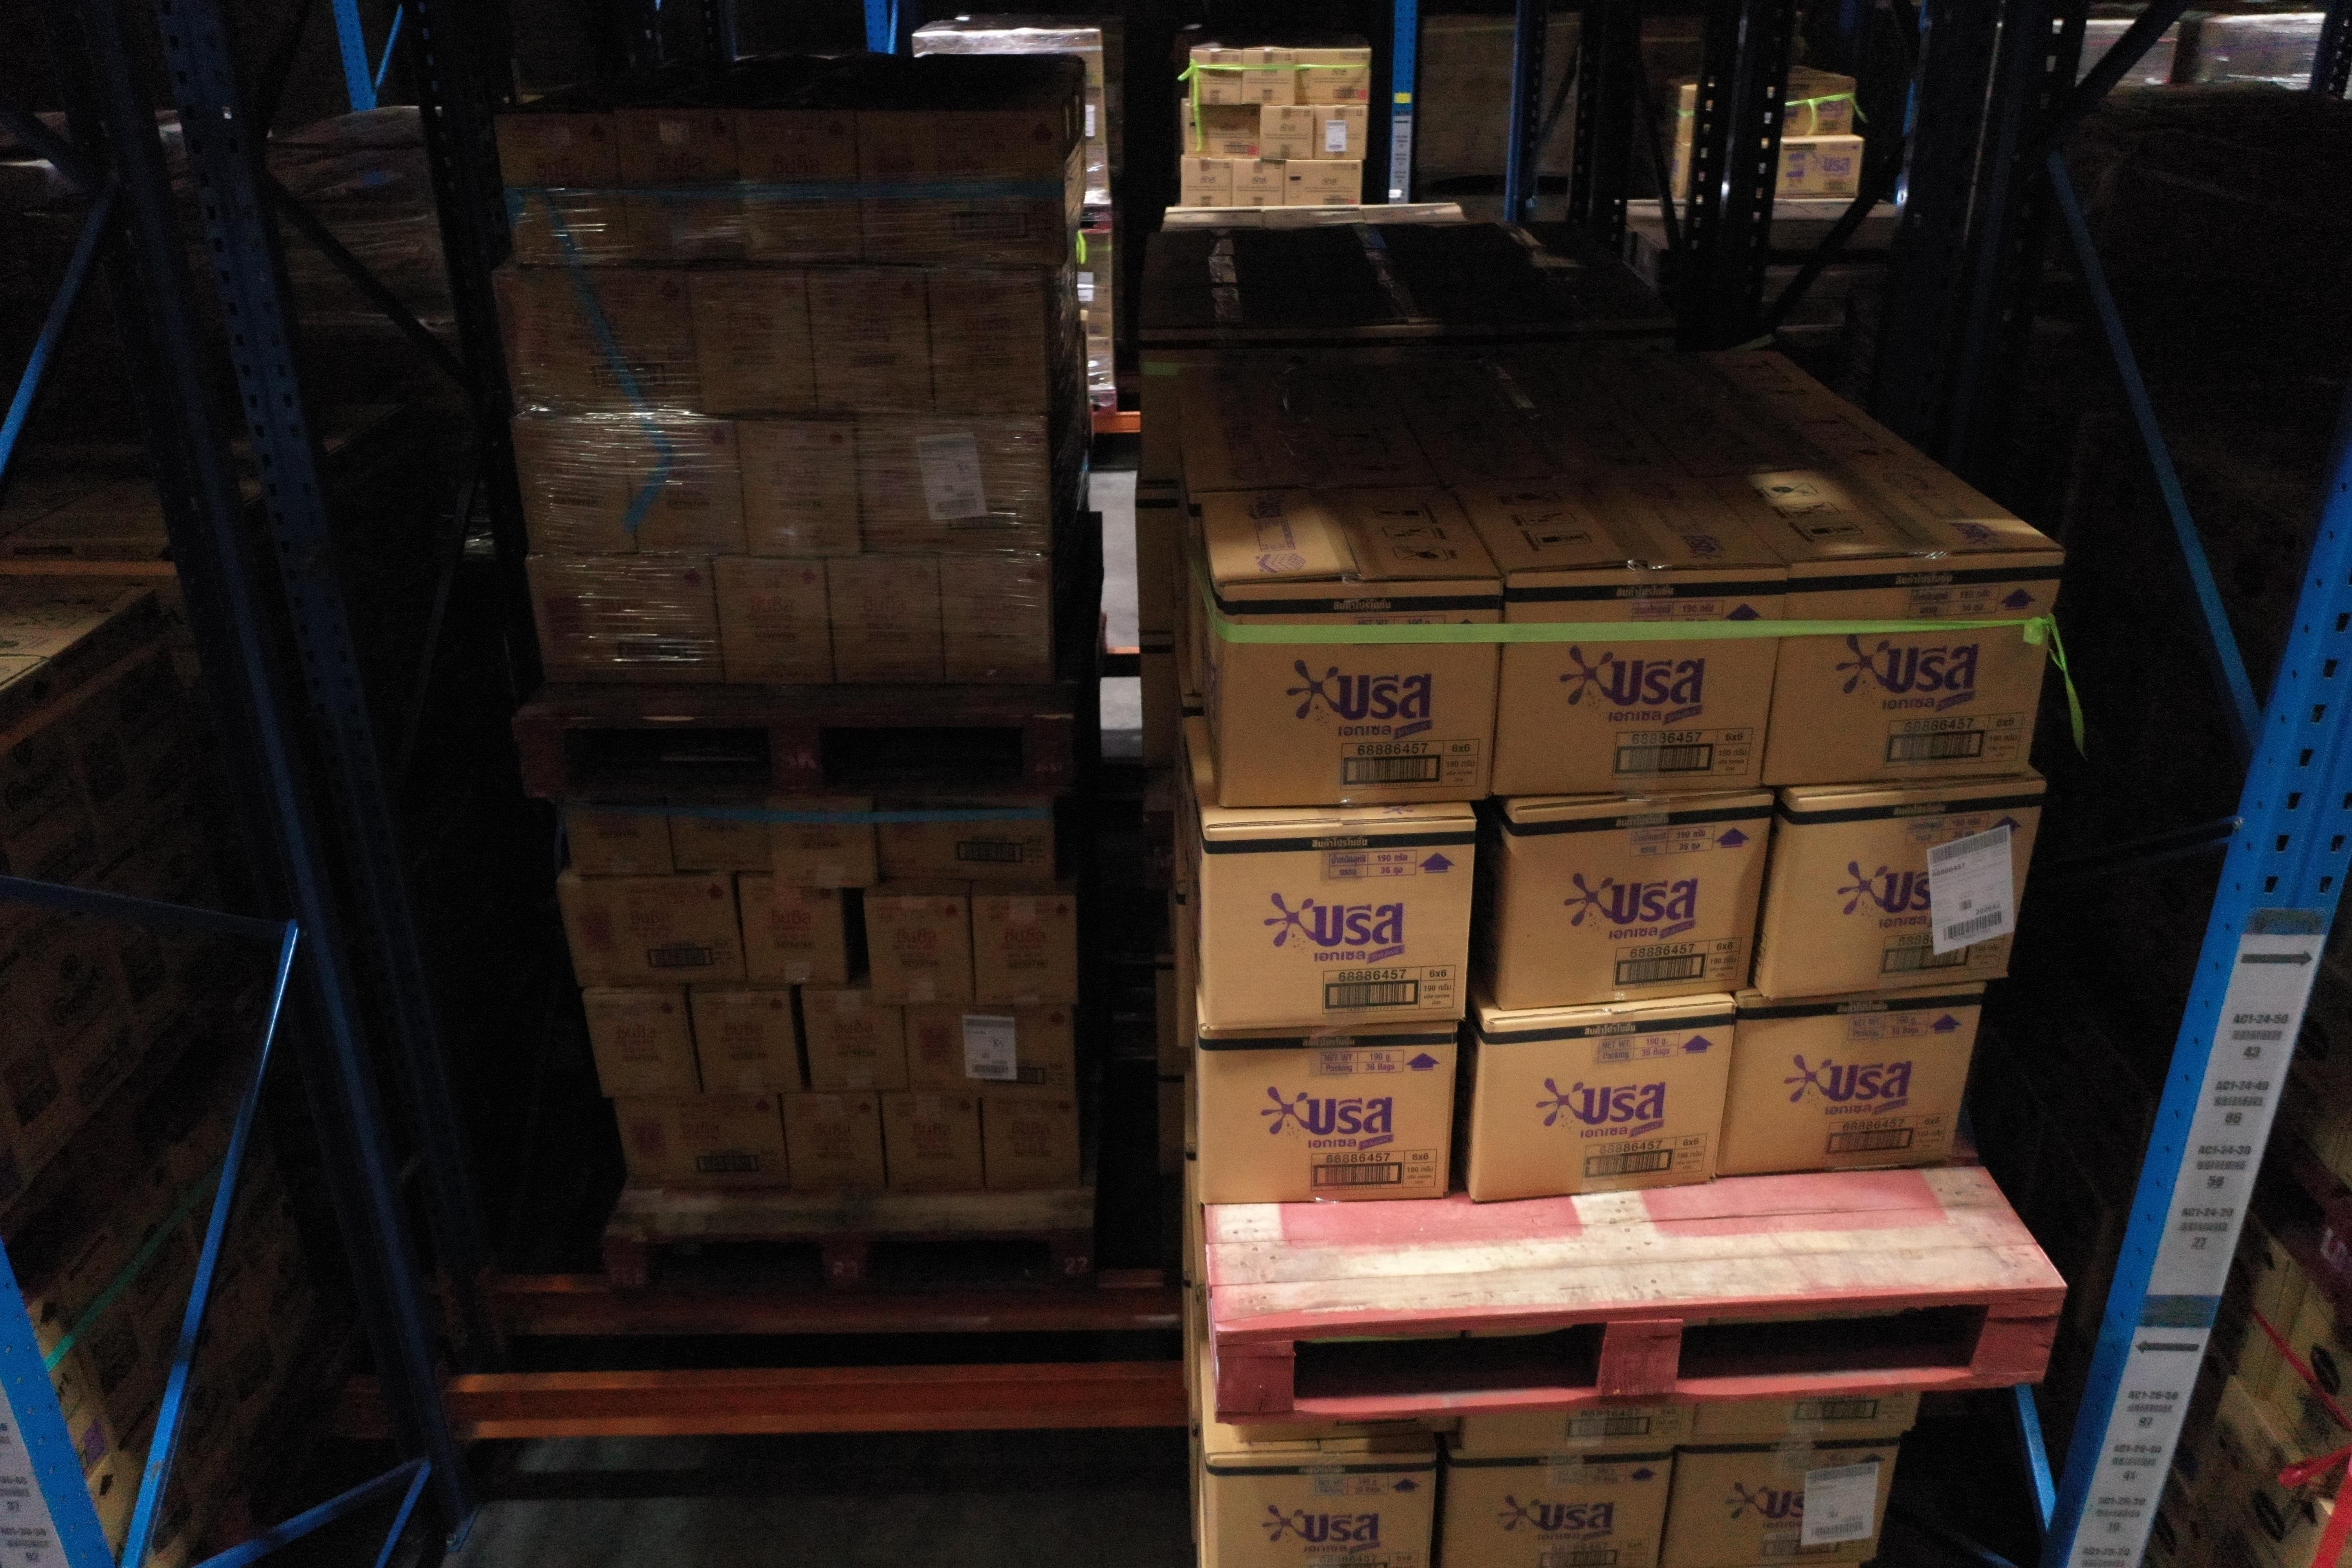-: (1766, 549, 2065, 786), (1493, 565, 1792, 798), (1214, 579, 1508, 810), (1764, 779, 2046, 1003), (1496, 787, 1778, 1010), (1206, 815, 1477, 1034), (1475, 996, 1738, 1199), (1717, 982, 1988, 1176), (1199, 1017, 1458, 1206), (1664, 1435, 1900, 1568), (1437, 1449, 1678, 1568), (1207, 1454, 1435, 1568), (1694, 1391, 1920, 1442), (1459, 1407, 1692, 1449)
box: (856, 108, 1067, 266), (495, 269, 702, 411), (854, 411, 1052, 553), (527, 556, 726, 686), (493, 108, 633, 266), (616, 110, 749, 266), (556, 878, 745, 987), (681, 269, 819, 415), (733, 110, 864, 261), (621, 415, 751, 558), (735, 415, 864, 558), (810, 268, 934, 415), (511, 416, 640, 556), (927, 266, 1048, 411), (822, 558, 950, 688), (616, 1095, 791, 1188), (903, 1006, 1073, 1101), (940, 553, 1055, 686), (714, 556, 833, 684), (871, 800, 1055, 882), (584, 987, 703, 1097), (688, 985, 805, 1095), (731, 880, 849, 987), (969, 894, 1080, 1004), (864, 894, 975, 1003), (800, 990, 912, 1092), (878, 1092, 983, 1190), (780, 1094, 887, 1190), (768, 801, 875, 891), (982, 1095, 1081, 1188), (560, 800, 675, 877), (665, 800, 772, 871)
